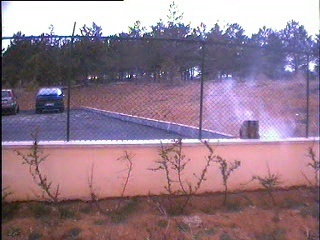smoke: (208, 72, 299, 142)
